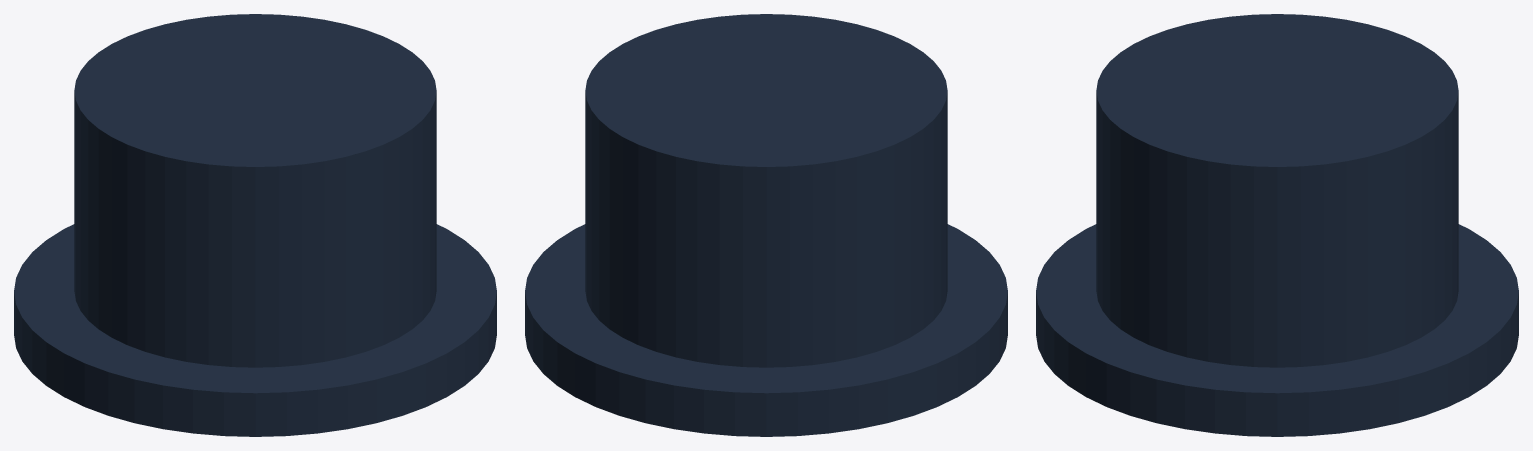
The model's file is lidar_link.dae.
3 renders of one model, left to right at view 1: azimuth 30°, elevation 25°; view 2: azimuth 150°, elevation 25°; view 3: azimuth 270°, elevation 25°, orthographic.
Parts seen in each view (by area): view 1: mesh; view 2: mesh; view 3: mesh.
Boxes of the visible parts, x1,y1,x2,y2 form: mesh: [14, 14, 496, 436]; mesh: [525, 14, 1007, 436]; mesh: [1036, 14, 1518, 436].
Size of the model in its own units: 0.12 by 0.12 by 0.067.
